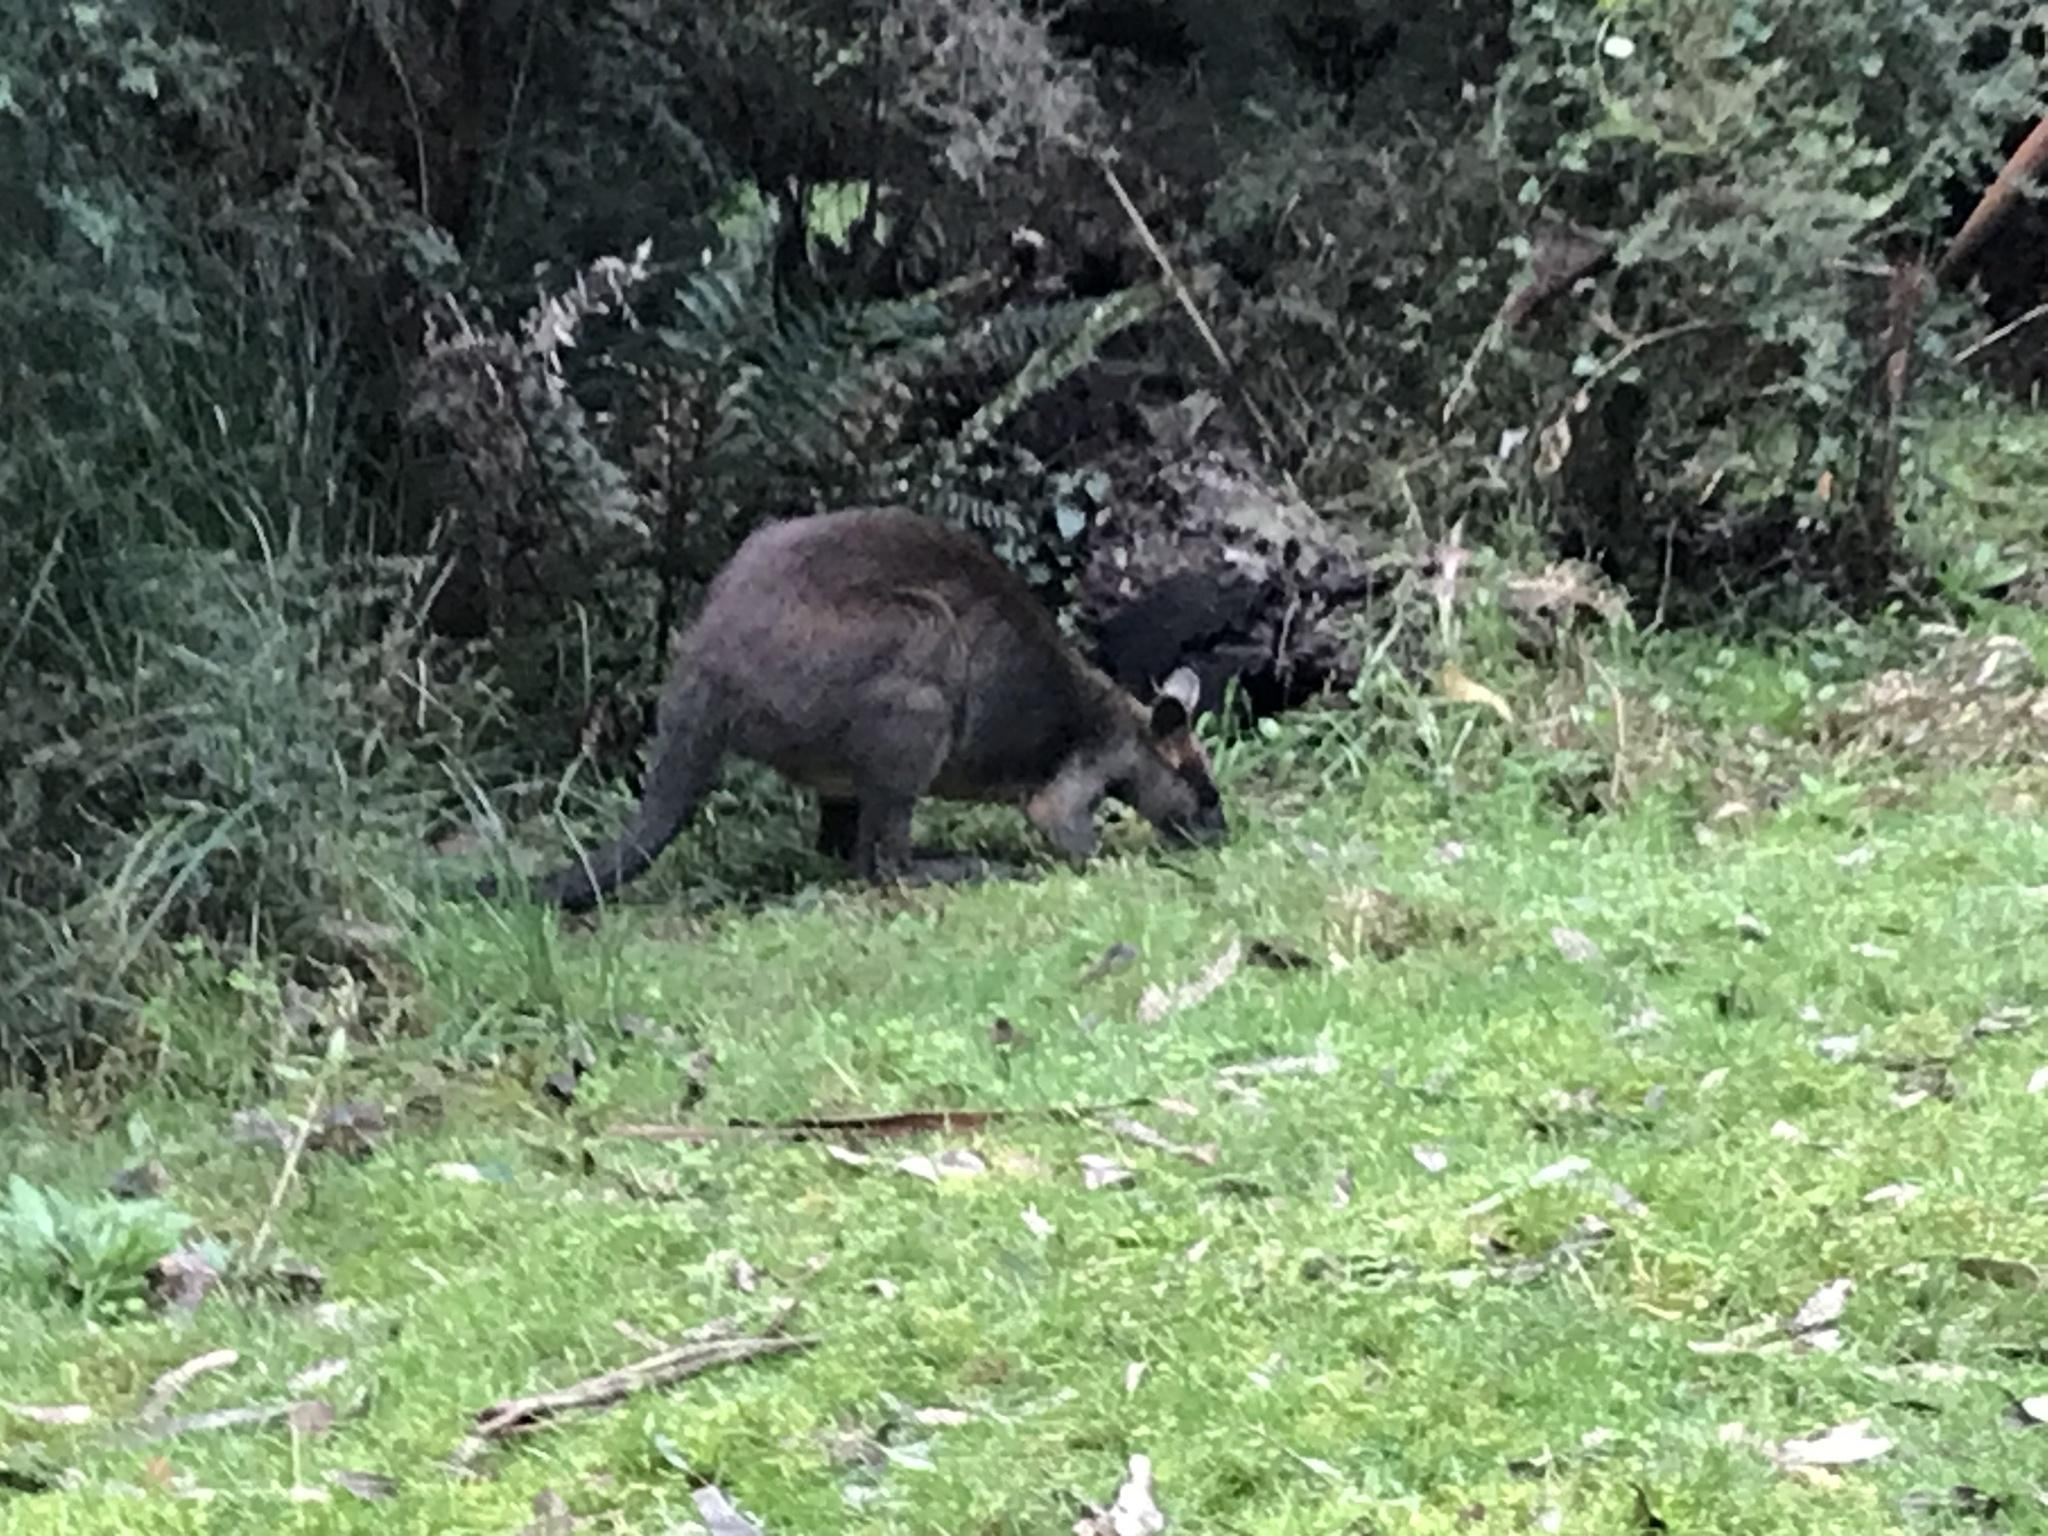Swamp wallaby: (364, 502, 1232, 929)
